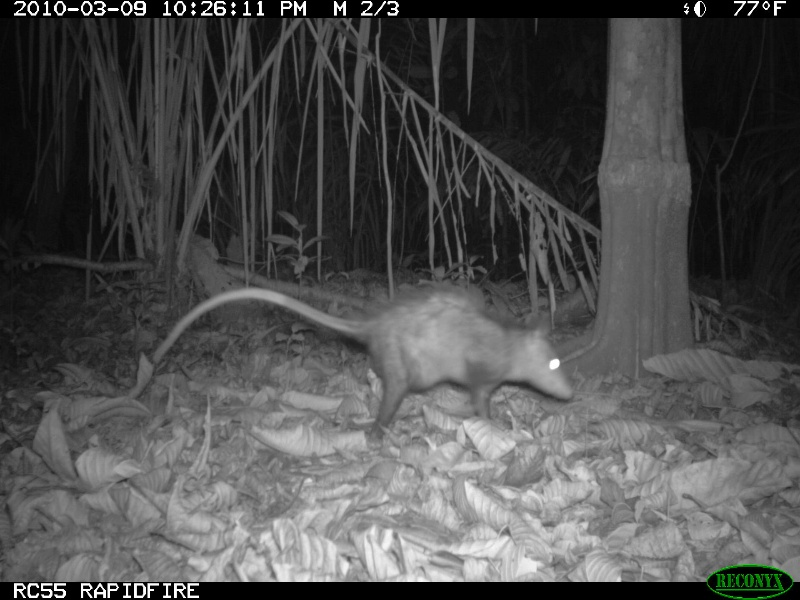opossum: (149, 282, 579, 444)
